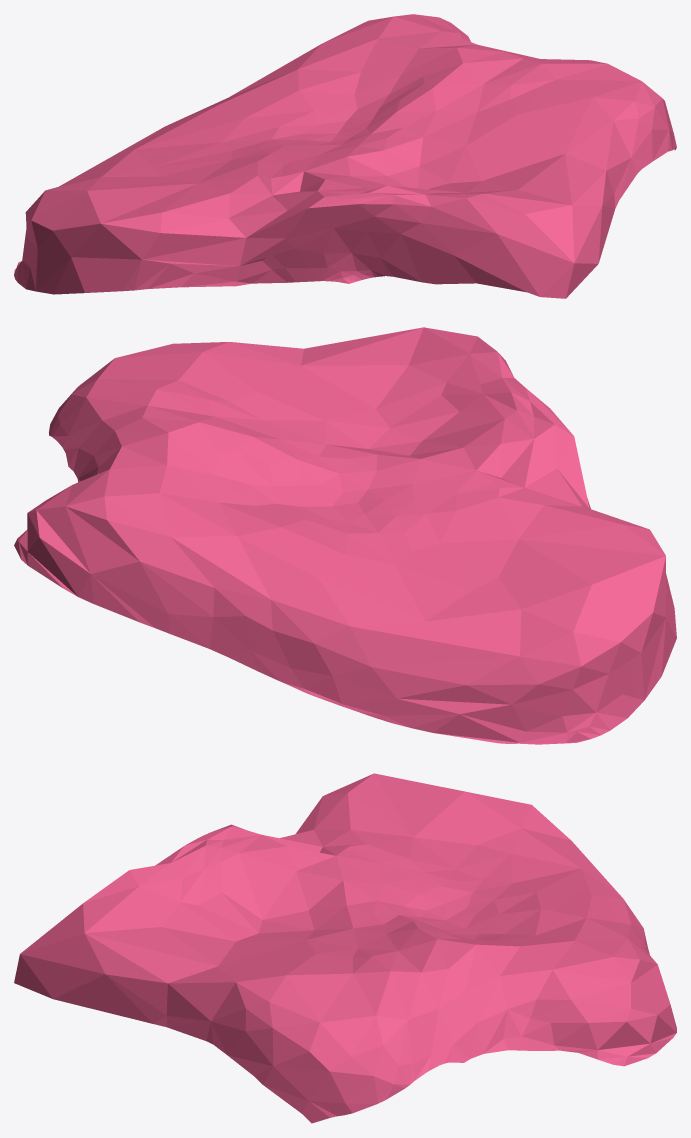
Rendered from ground_008.fbx.
The picture shows the model from 3 angles, top to bottom: view 1: azimuth 30°, elevation 25°; view 2: azimuth 150°, elevation 25°; view 3: azimuth 270°, elevation 25°; orthographic projection. The views are drawn at different scales.
Parts seen in each view (by area): view 1: ground.008; view 2: ground.008; view 3: ground.008.
Boxes of the visible parts, x1,y1,x2,y2 form: ground.008: (14,14,676,298); ground.008: (14,327,676,744); ground.008: (14,773,676,1123).
Bounding box in the file's own units: 2704 × 686 × 2374.
Materials: 1 (1 with a texture image).
